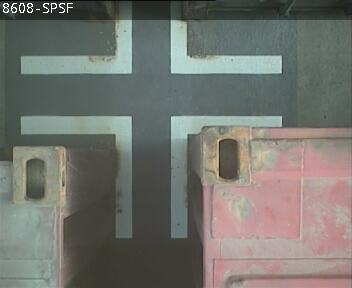groundmarker_1: (18, 114, 283, 238), (20, 1, 284, 74)
